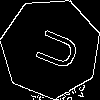U: (26, 23, 81, 74)
